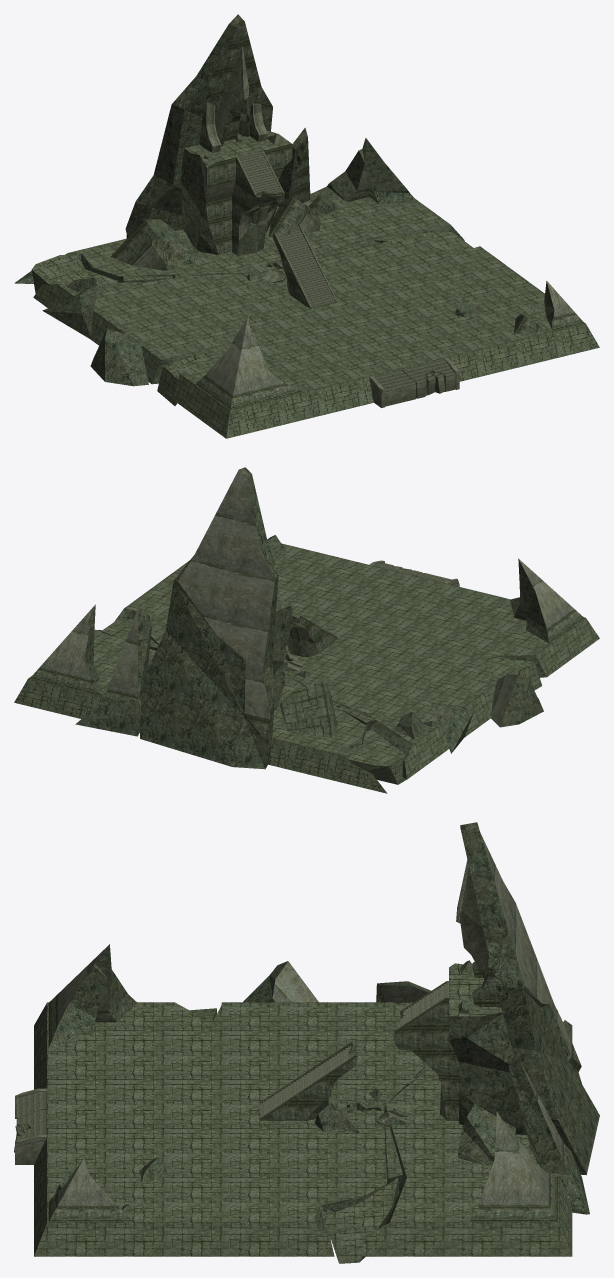
Rendered from thm_dant_jedi_main_l1.fbx.
The picture shows the model from 3 angles, top to bottom: view 1: azimuth 30°, elevation 25°; view 2: azimuth 150°, elevation 25°; view 3: azimuth 270°, elevation 25°; orthographic projection. The views are drawn at different scales.
Parts seen in each view (by area): view 1: mesh_node; view 2: mesh_node; view 3: mesh_node.
Boxes of the visible parts, box(x1,y1,x2,y2) form: mesh_node: box(14, 14, 599, 438); mesh_node: box(14, 467, 599, 793); mesh_node: box(14, 822, 599, 1263).
Size of the model in its own units: 57.1 by 34.85 by 56.21.
